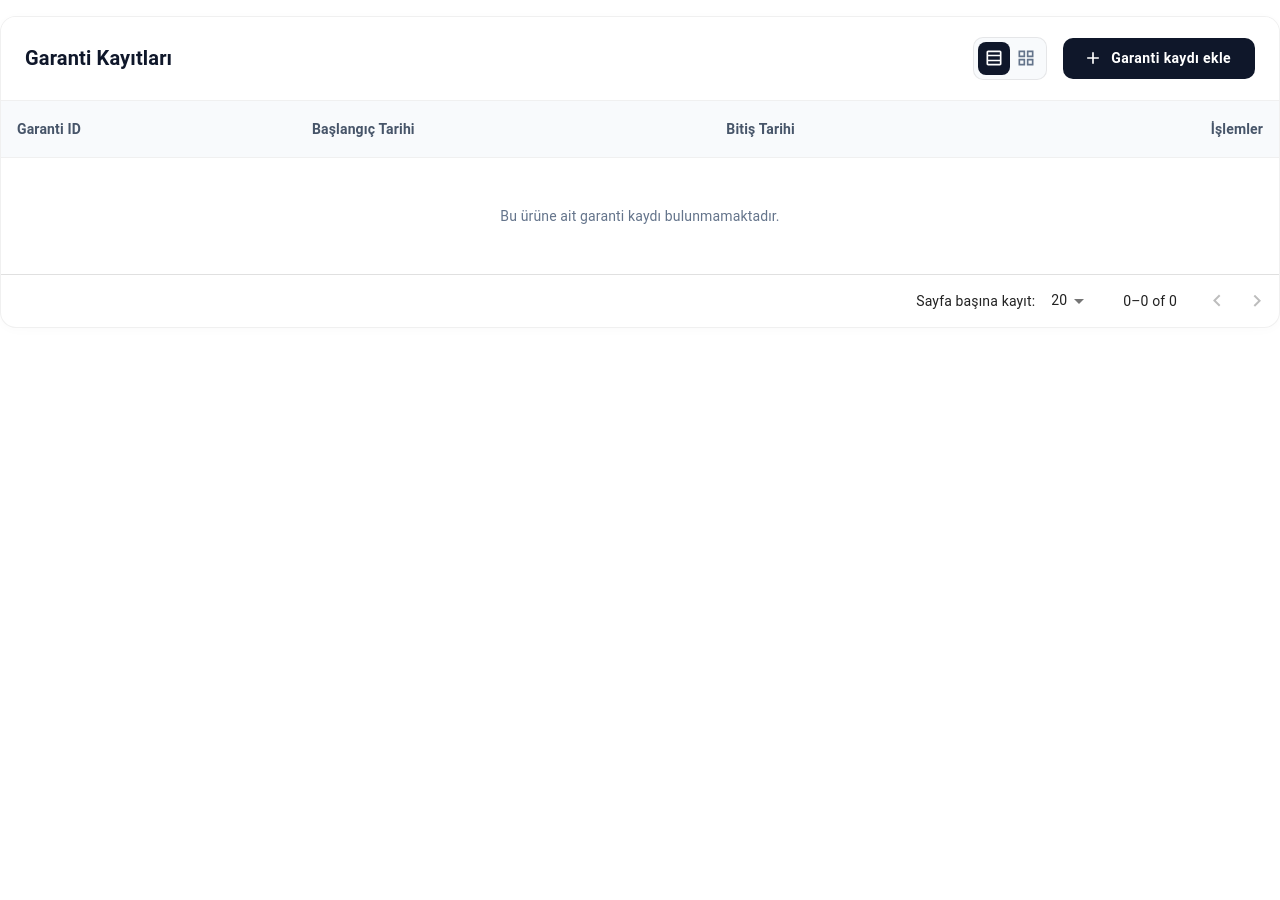
Test: WarrantyList Bileşeni › Kaydet butonuna hızlıca iki kez basıldığında yalnızca bir API isteği gönderilmelidir
Click the button "Garanti kaydı ekle".
click(1159, 58)  # box [1063,38,1255,79]
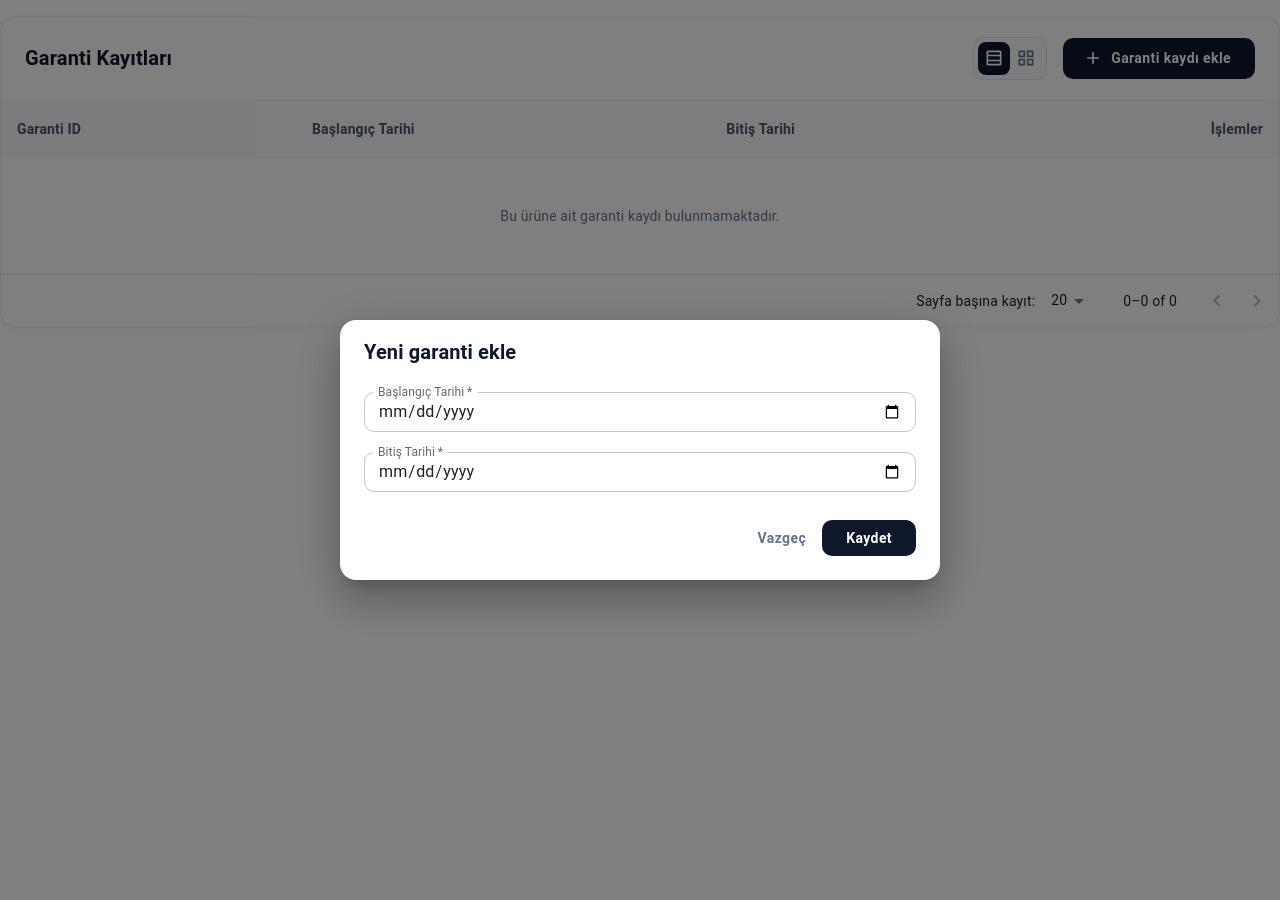
Type "2026-10-05" into the date field labelled "Başlangıç Tarihi *".
click(640, 412); type("2026-10-05")  # box [364,392,916,432]
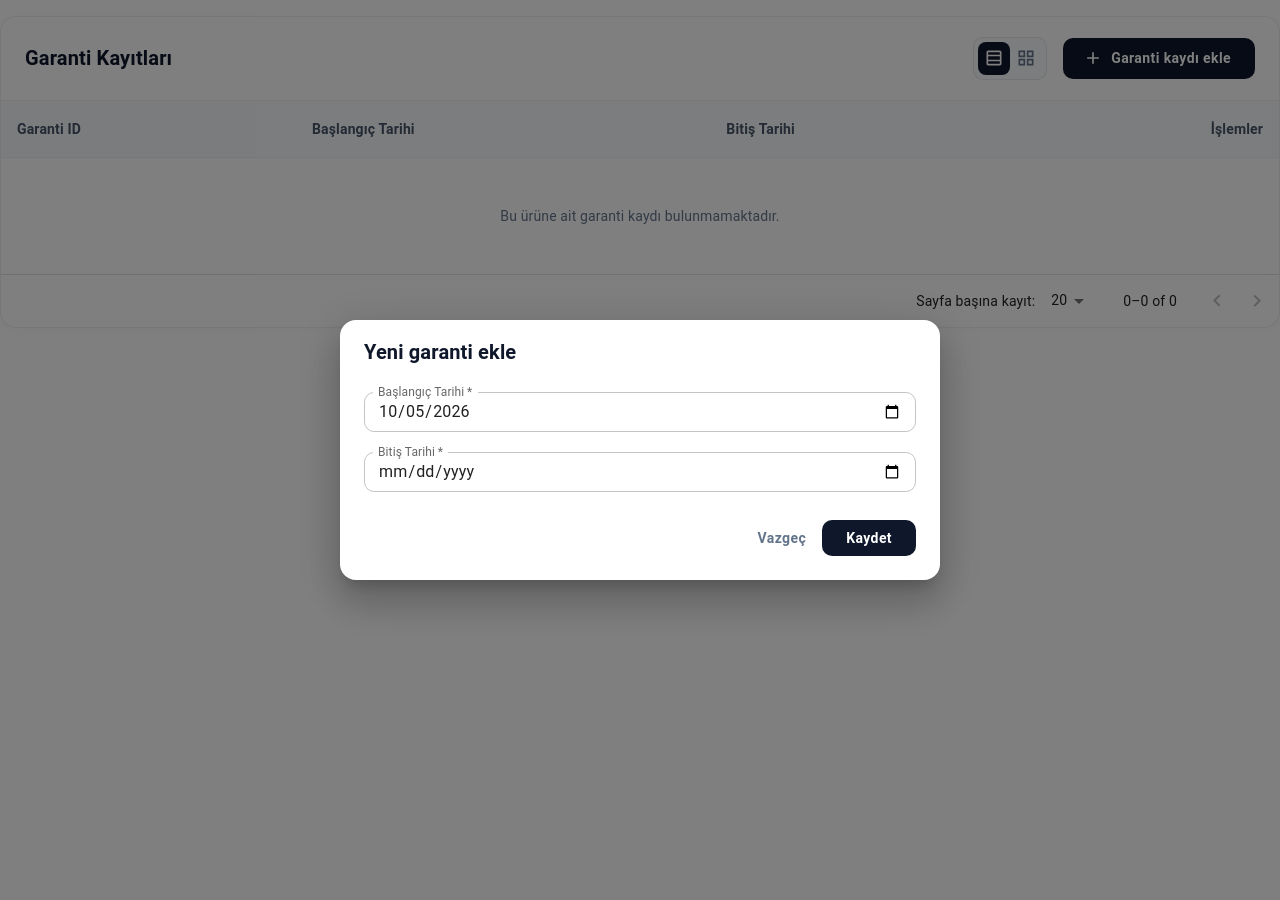
Type "2026-10-20" into the date field labelled "Bitiş Tarihi *".
click(640, 472); type("2026-10-20")  # box [364,452,916,492]
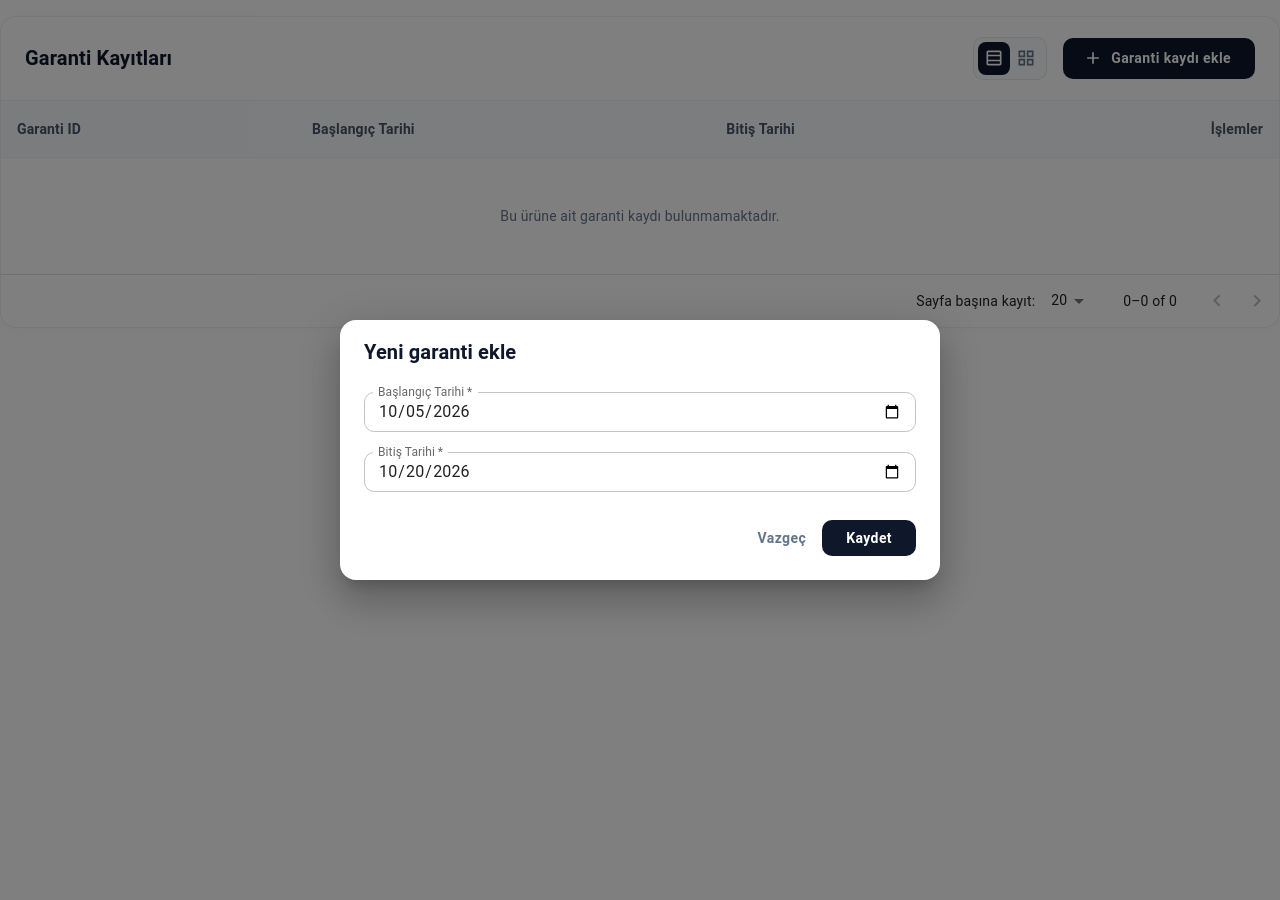
Click the button "Kaydet".
click(869, 538)  # box [822,520,916,556]
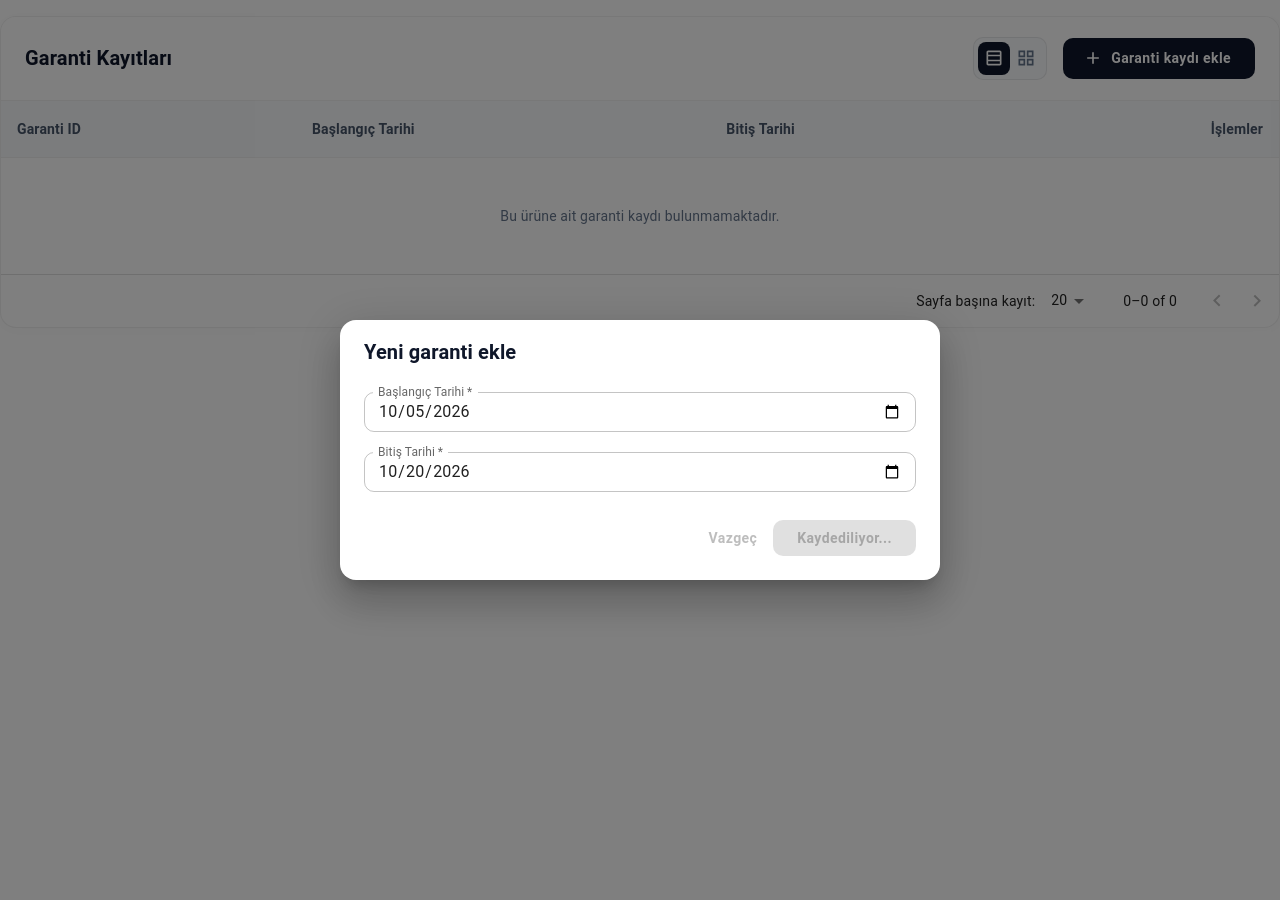
Click the button named "Kaydet".
click(845, 538)  # box [773,520,916,556]
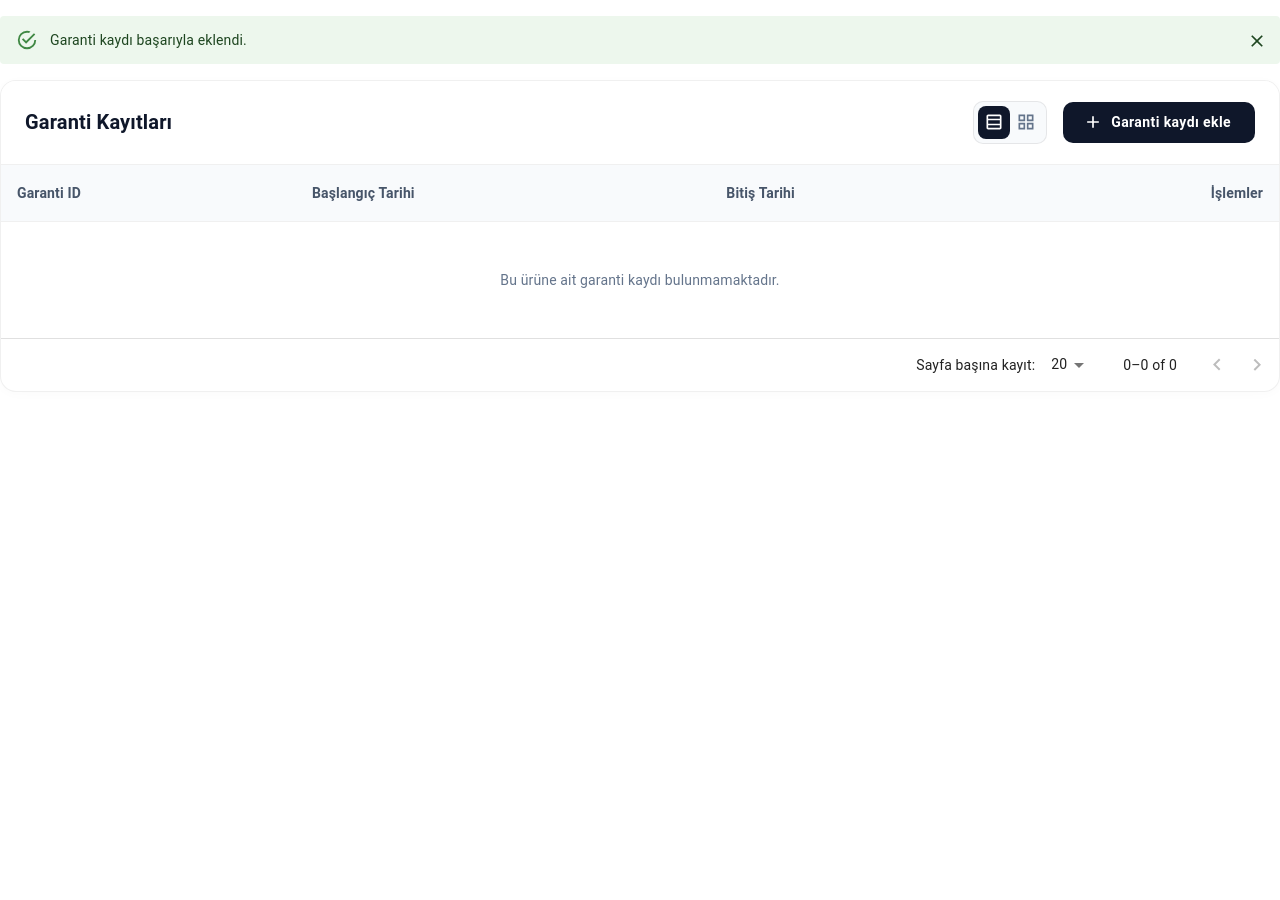
Check: the text "Garanti kaydı başarıyla eklendi." is shown, box [50,32,247,48]
